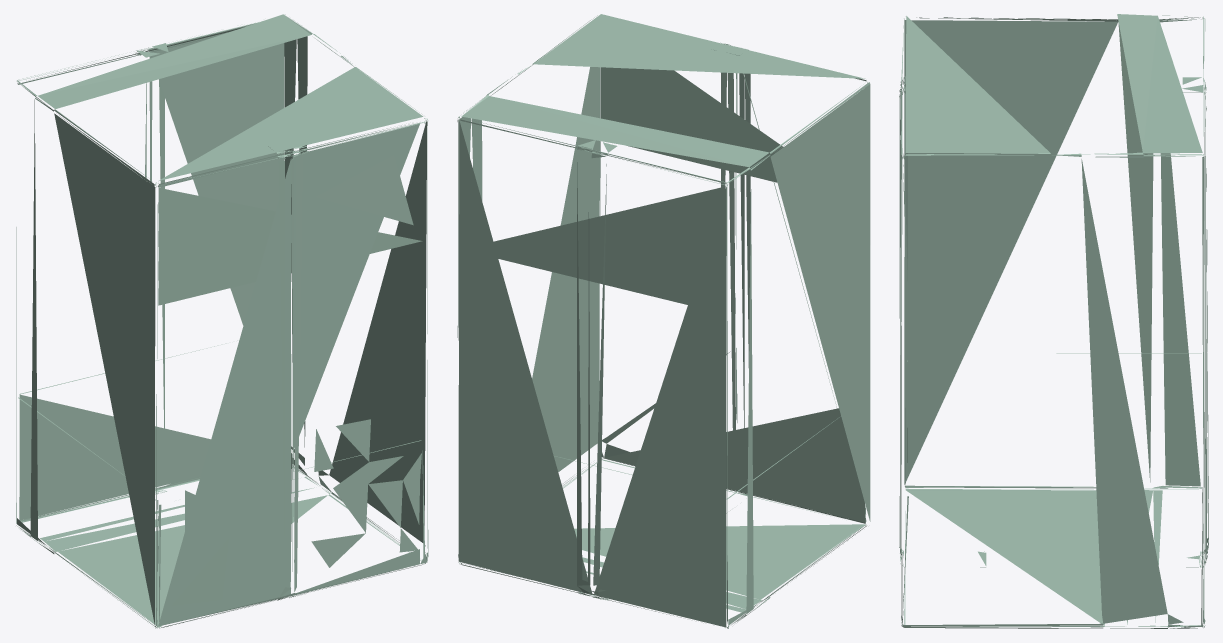
File: box_printer_a01.glb
The picture shows the model from 3 angles, left to right: view 1: azimuth 30°, elevation 25°; view 2: azimuth 150°, elevation 25°; view 3: azimuth 270°, elevation 25°; orthographic projection. The views are drawn at different scales.
Visible parts, largest first — view 1: geometry_0; view 2: geometry_0; view 3: geometry_0.
Part boxes in pixels (x1,y1,x2,y2): geometry_0: [16, 14, 428, 628]; geometry_0: [457, 14, 870, 628]; geometry_0: [899, 14, 1208, 628].
Bounding box in the file's own units: 0.3057 × 0.48 × 0.2828.
